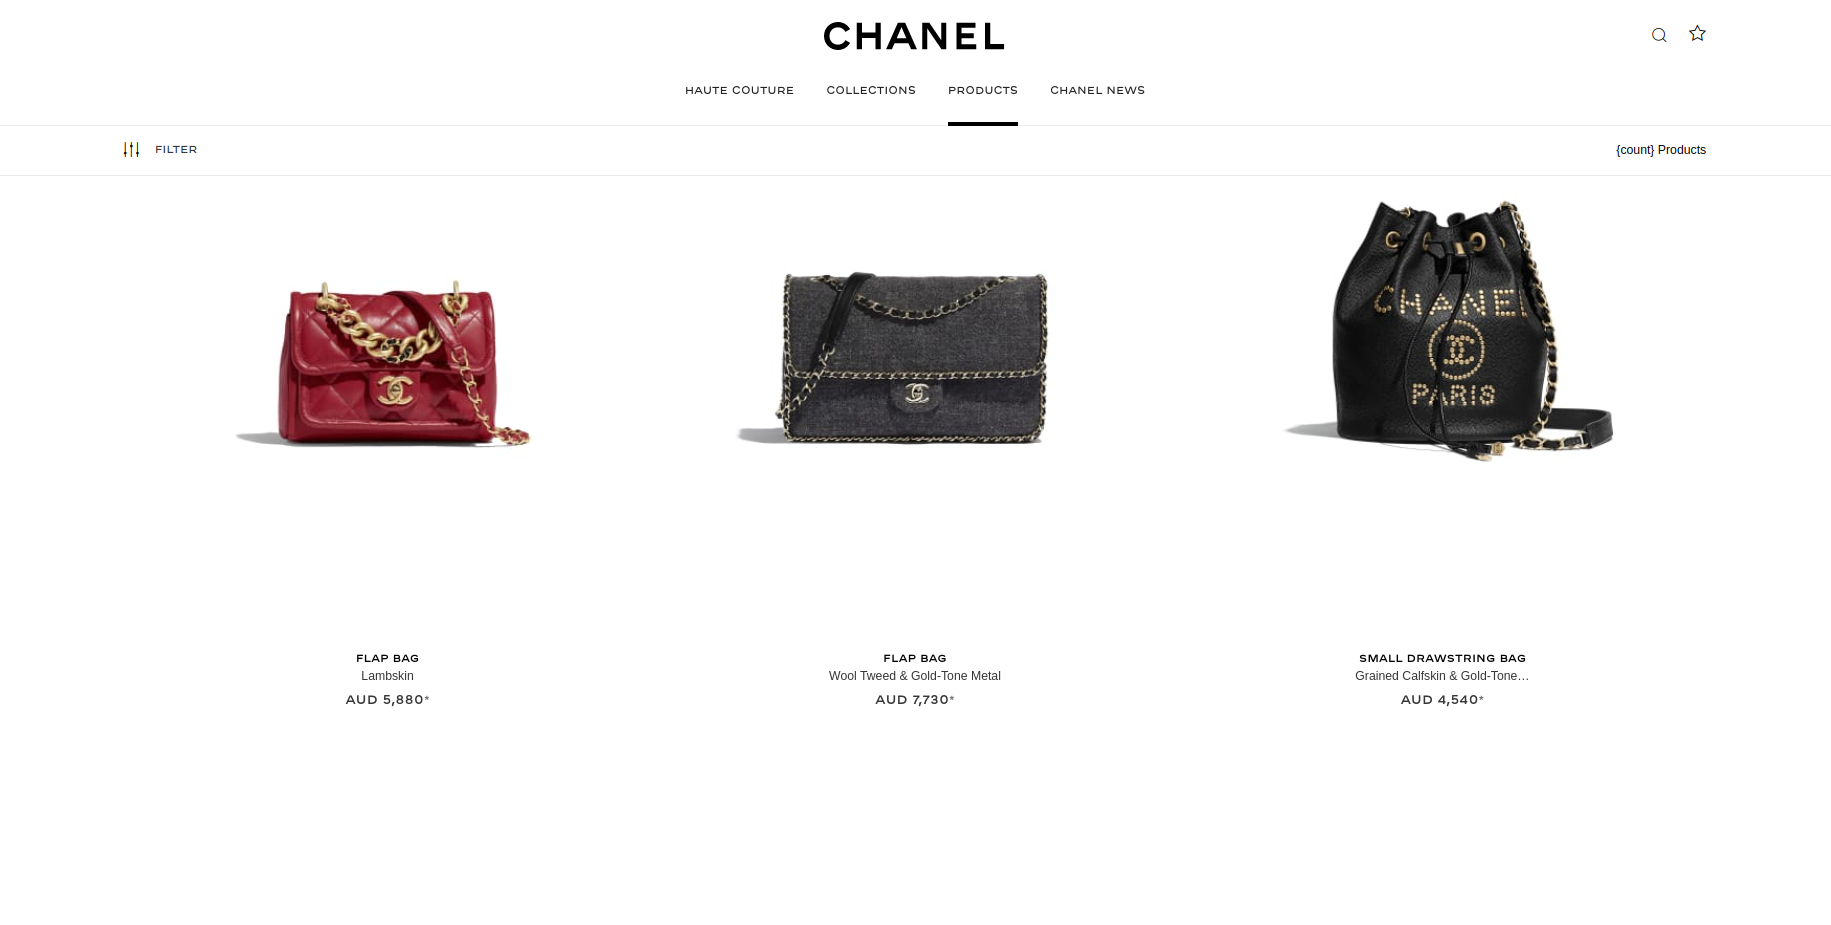Chanel: (1428, 320, 1494, 378), (372, 376, 421, 408), (901, 380, 941, 408)
